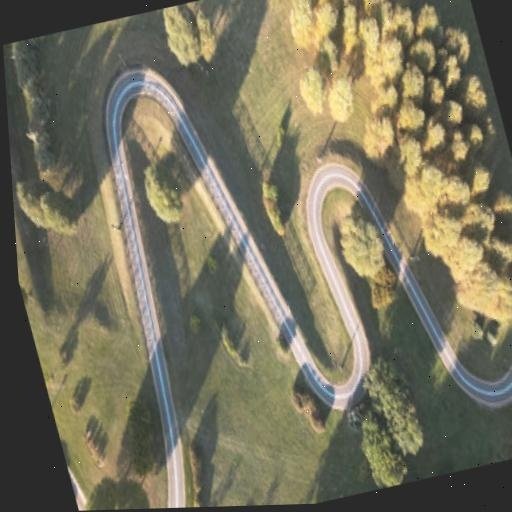tree-top: (372, 378, 435, 467), (131, 155, 199, 229), (450, 248, 512, 329), (330, 211, 394, 284), (354, 421, 416, 491), (83, 269, 139, 335), (356, 112, 406, 180), (30, 179, 83, 242), (159, 3, 204, 67), (32, 148, 88, 199), (78, 472, 151, 511), (398, 168, 445, 224), (256, 176, 290, 242), (419, 207, 461, 260), (12, 173, 47, 232), (20, 74, 58, 124), (6, 38, 47, 84), (190, 8, 224, 63), (294, 63, 336, 107), (323, 76, 359, 125), (442, 167, 477, 216), (377, 0, 419, 40), (389, 95, 432, 134), (374, 27, 411, 72), (391, 62, 433, 101), (18, 109, 54, 154), (453, 71, 491, 112), (465, 196, 498, 243), (393, 135, 428, 179), (438, 125, 476, 163), (352, 11, 390, 49), (411, 29, 445, 71), (336, 4, 365, 52), (316, 28, 348, 71), (417, 111, 453, 149), (464, 158, 499, 197), (284, 0, 319, 37), (440, 24, 477, 59), (436, 95, 470, 130), (489, 180, 512, 231), (421, 71, 454, 106), (436, 48, 468, 84), (412, 0, 445, 34), (465, 117, 494, 153), (310, 0, 339, 32), (13, 189, 22, 232), (508, 223, 512, 263), (324, 0, 362, 4)
